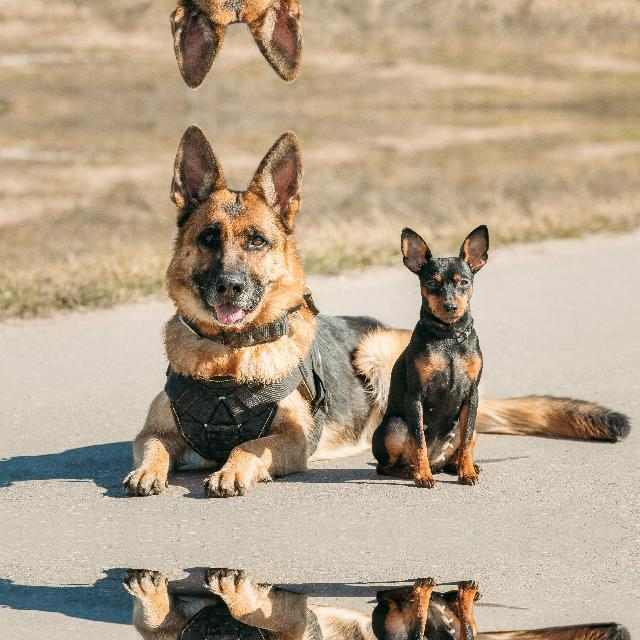dog: (126, 119, 344, 533), (373, 223, 525, 532), (126, 533, 344, 640), (126, 0, 344, 93), (373, 533, 525, 640)
